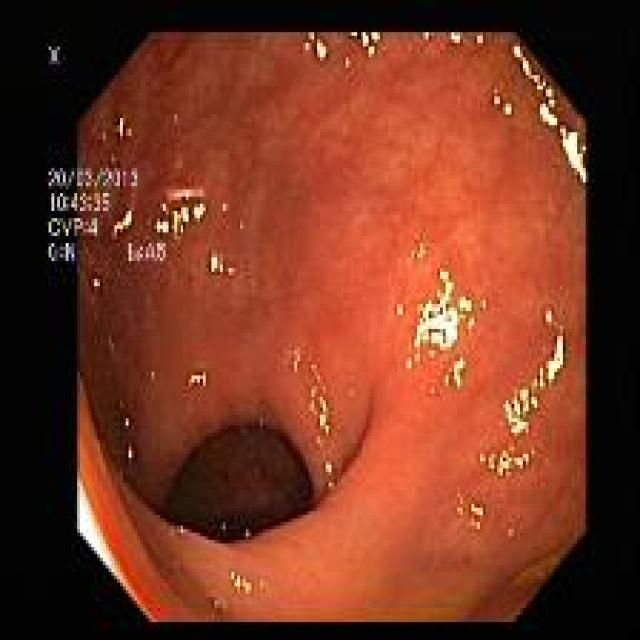ulcerative-colitis: (79, 34, 585, 525)
